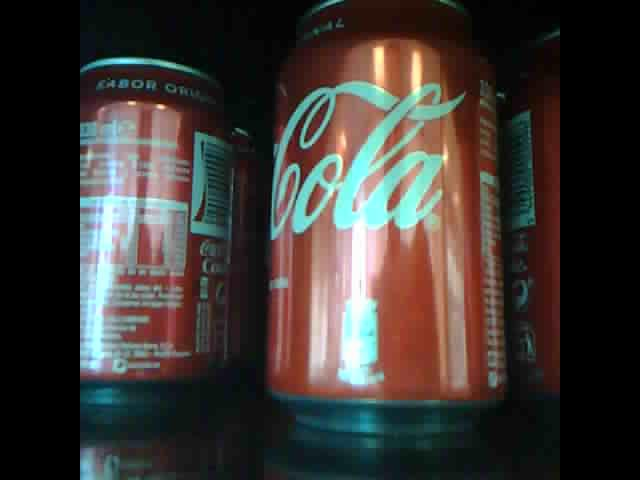coca cola: (260, 1, 504, 411), (80, 52, 248, 396), (502, 63, 559, 409)
